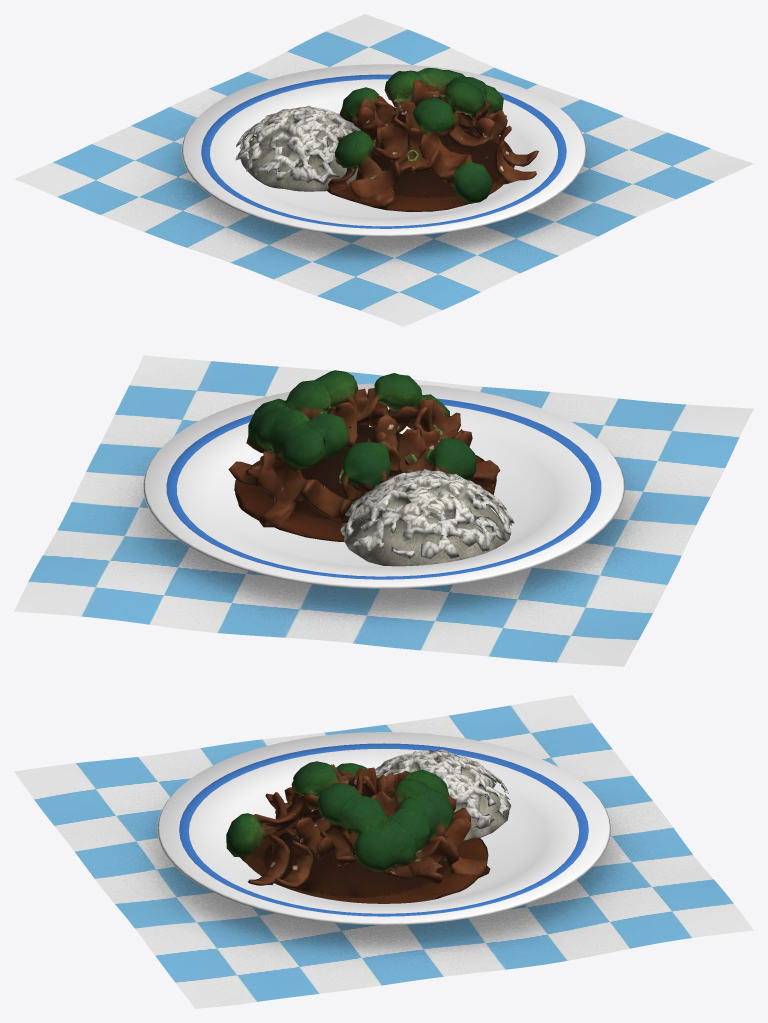
Rendered from stirfry.glb.
3 views of the same model, one above another, from view 1: azimuth 30°, elevation 25°; view 2: azimuth 150°, elevation 25°; view 3: azimuth 270°, elevation 25° (orthographic). The views are drawn at different scales.
Parts seen in each view (by area): view 1: stirfry_cloth, plate, stirfry_food, stirfry_rice, plate_rim; view 2: stirfry_cloth, plate, stirfry_food, stirfry_rice, plate_rim; view 3: stirfry_cloth, plate, stirfry_food, plate_rim, stirfry_rice.
Part boxes in pixels (box(x1,y1,x2,y2)): stirfry_cloth: box(14, 14, 753, 326); plate: box(181, 64, 586, 236); stirfry_food: box(327, 67, 538, 211); stirfry_rice: box(235, 105, 362, 191); plate_rim: box(201, 74, 566, 228); stirfry_cloth: box(14, 355, 753, 666); plate: box(143, 383, 624, 588); stirfry_food: box(228, 370, 500, 541); stirfry_rice: box(340, 469, 514, 566); plate_rim: box(166, 398, 601, 579); stirfry_cloth: box(14, 695, 753, 1008); plate: box(157, 732, 610, 925); stirfry_food: box(226, 761, 490, 903); plate_rim: box(179, 743, 588, 916); stirfry_rice: box(375, 749, 511, 840).
Size of the model in its own units: 5.54 by 0.8569 by 5.54.
5 materials, 3 textured.
